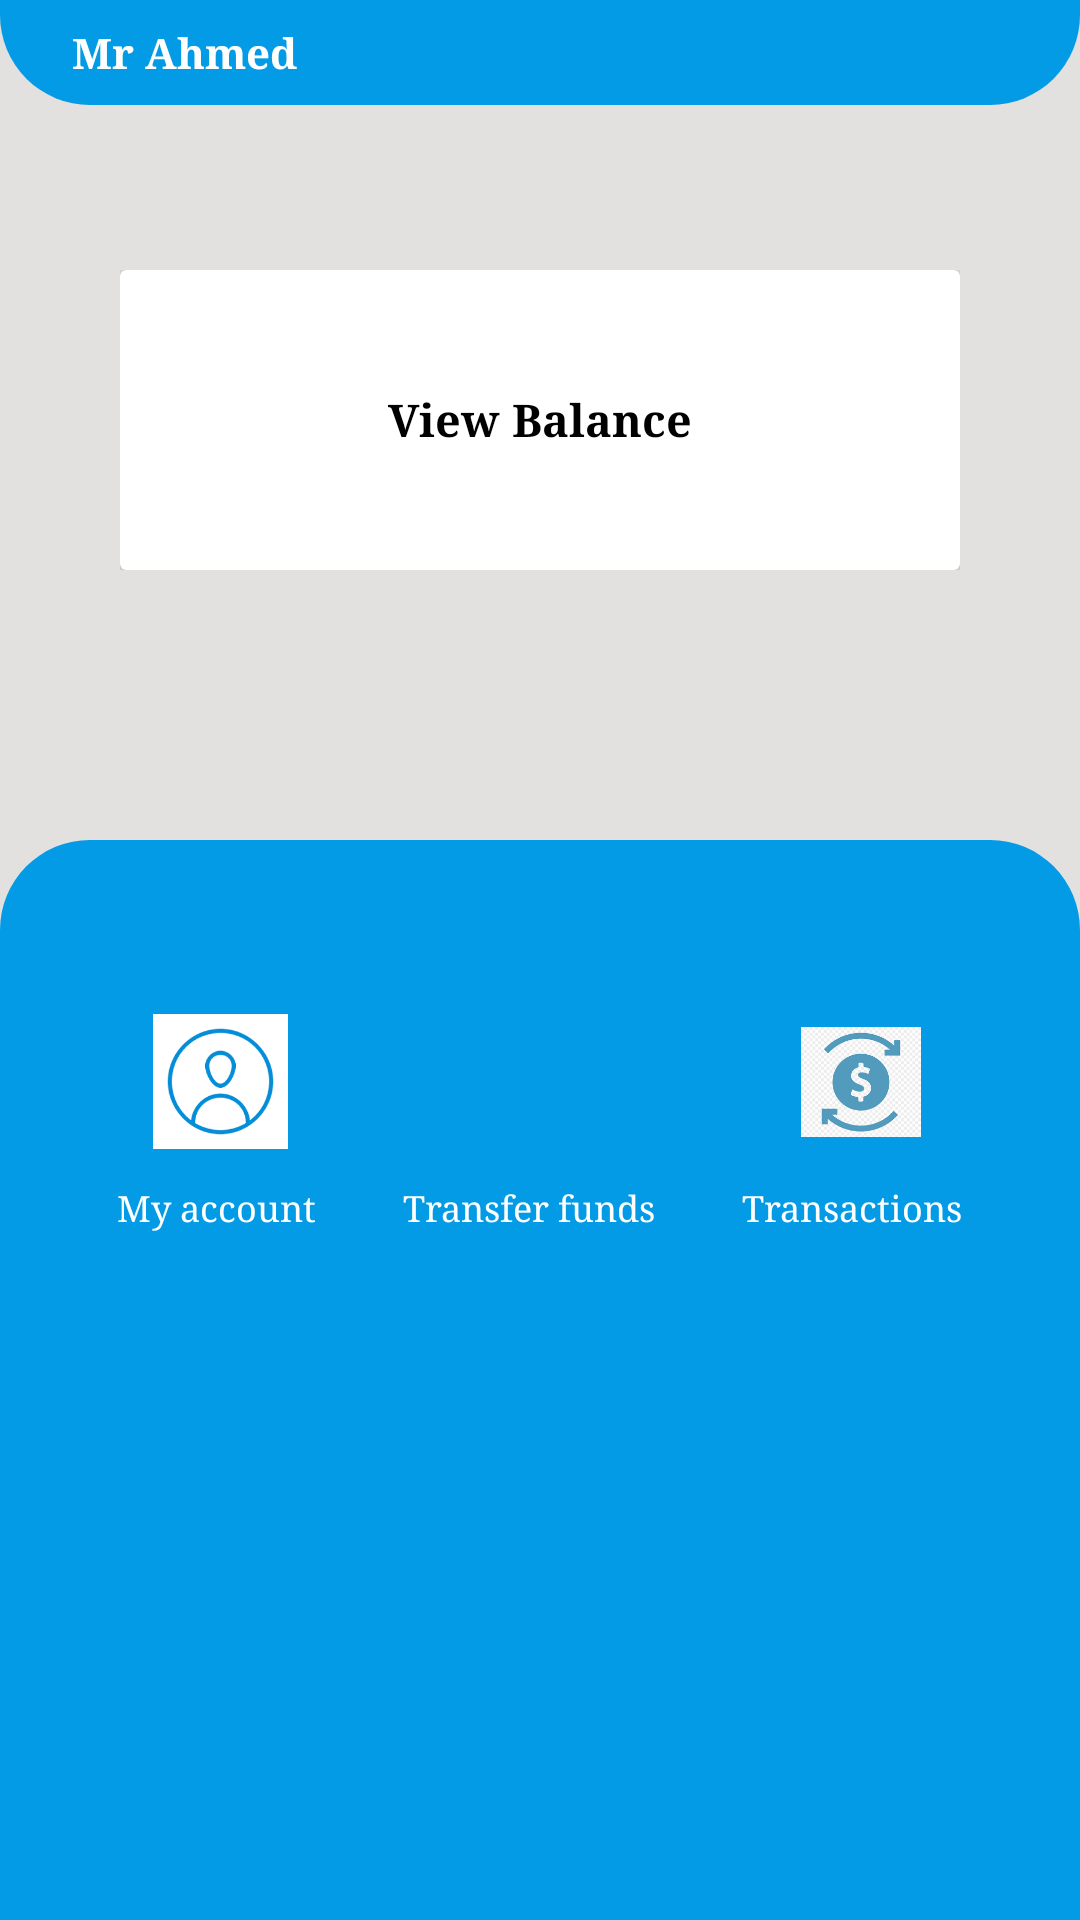

Named icons in this screenshot (1080*1920) and their centers, (x,y):
usericon: (220,1081)
